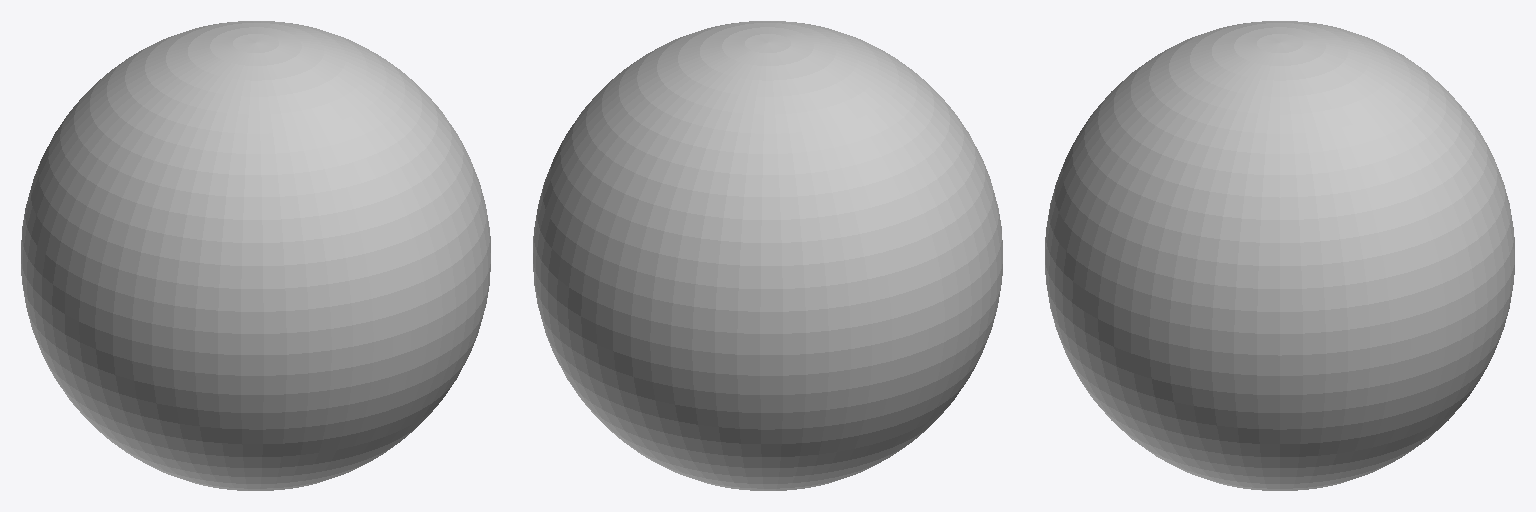
The model's file is sun.obj.
The picture shows the model from 3 angles: view 1: azimuth 30°, elevation 25°; view 2: azimuth 150°, elevation 25°; view 3: azimuth 270°, elevation 25°; orthographic projection.
Parts seen in each view (by area): view 1: UnstableStarref_2_0; view 2: UnstableStarref_2_0; view 3: UnstableStarref_2_0.
Part boxes in pixels (left/top/right/bottom): UnstableStarref_2_0: left=21, top=21, right=490, bottom=490; UnstableStarref_2_0: left=533, top=21, right=1002, bottom=490; UnstableStarref_2_0: left=1045, top=21, right=1514, bottom=490.
Size of the model in its own units: 20.2 by 20.2 by 20.2.